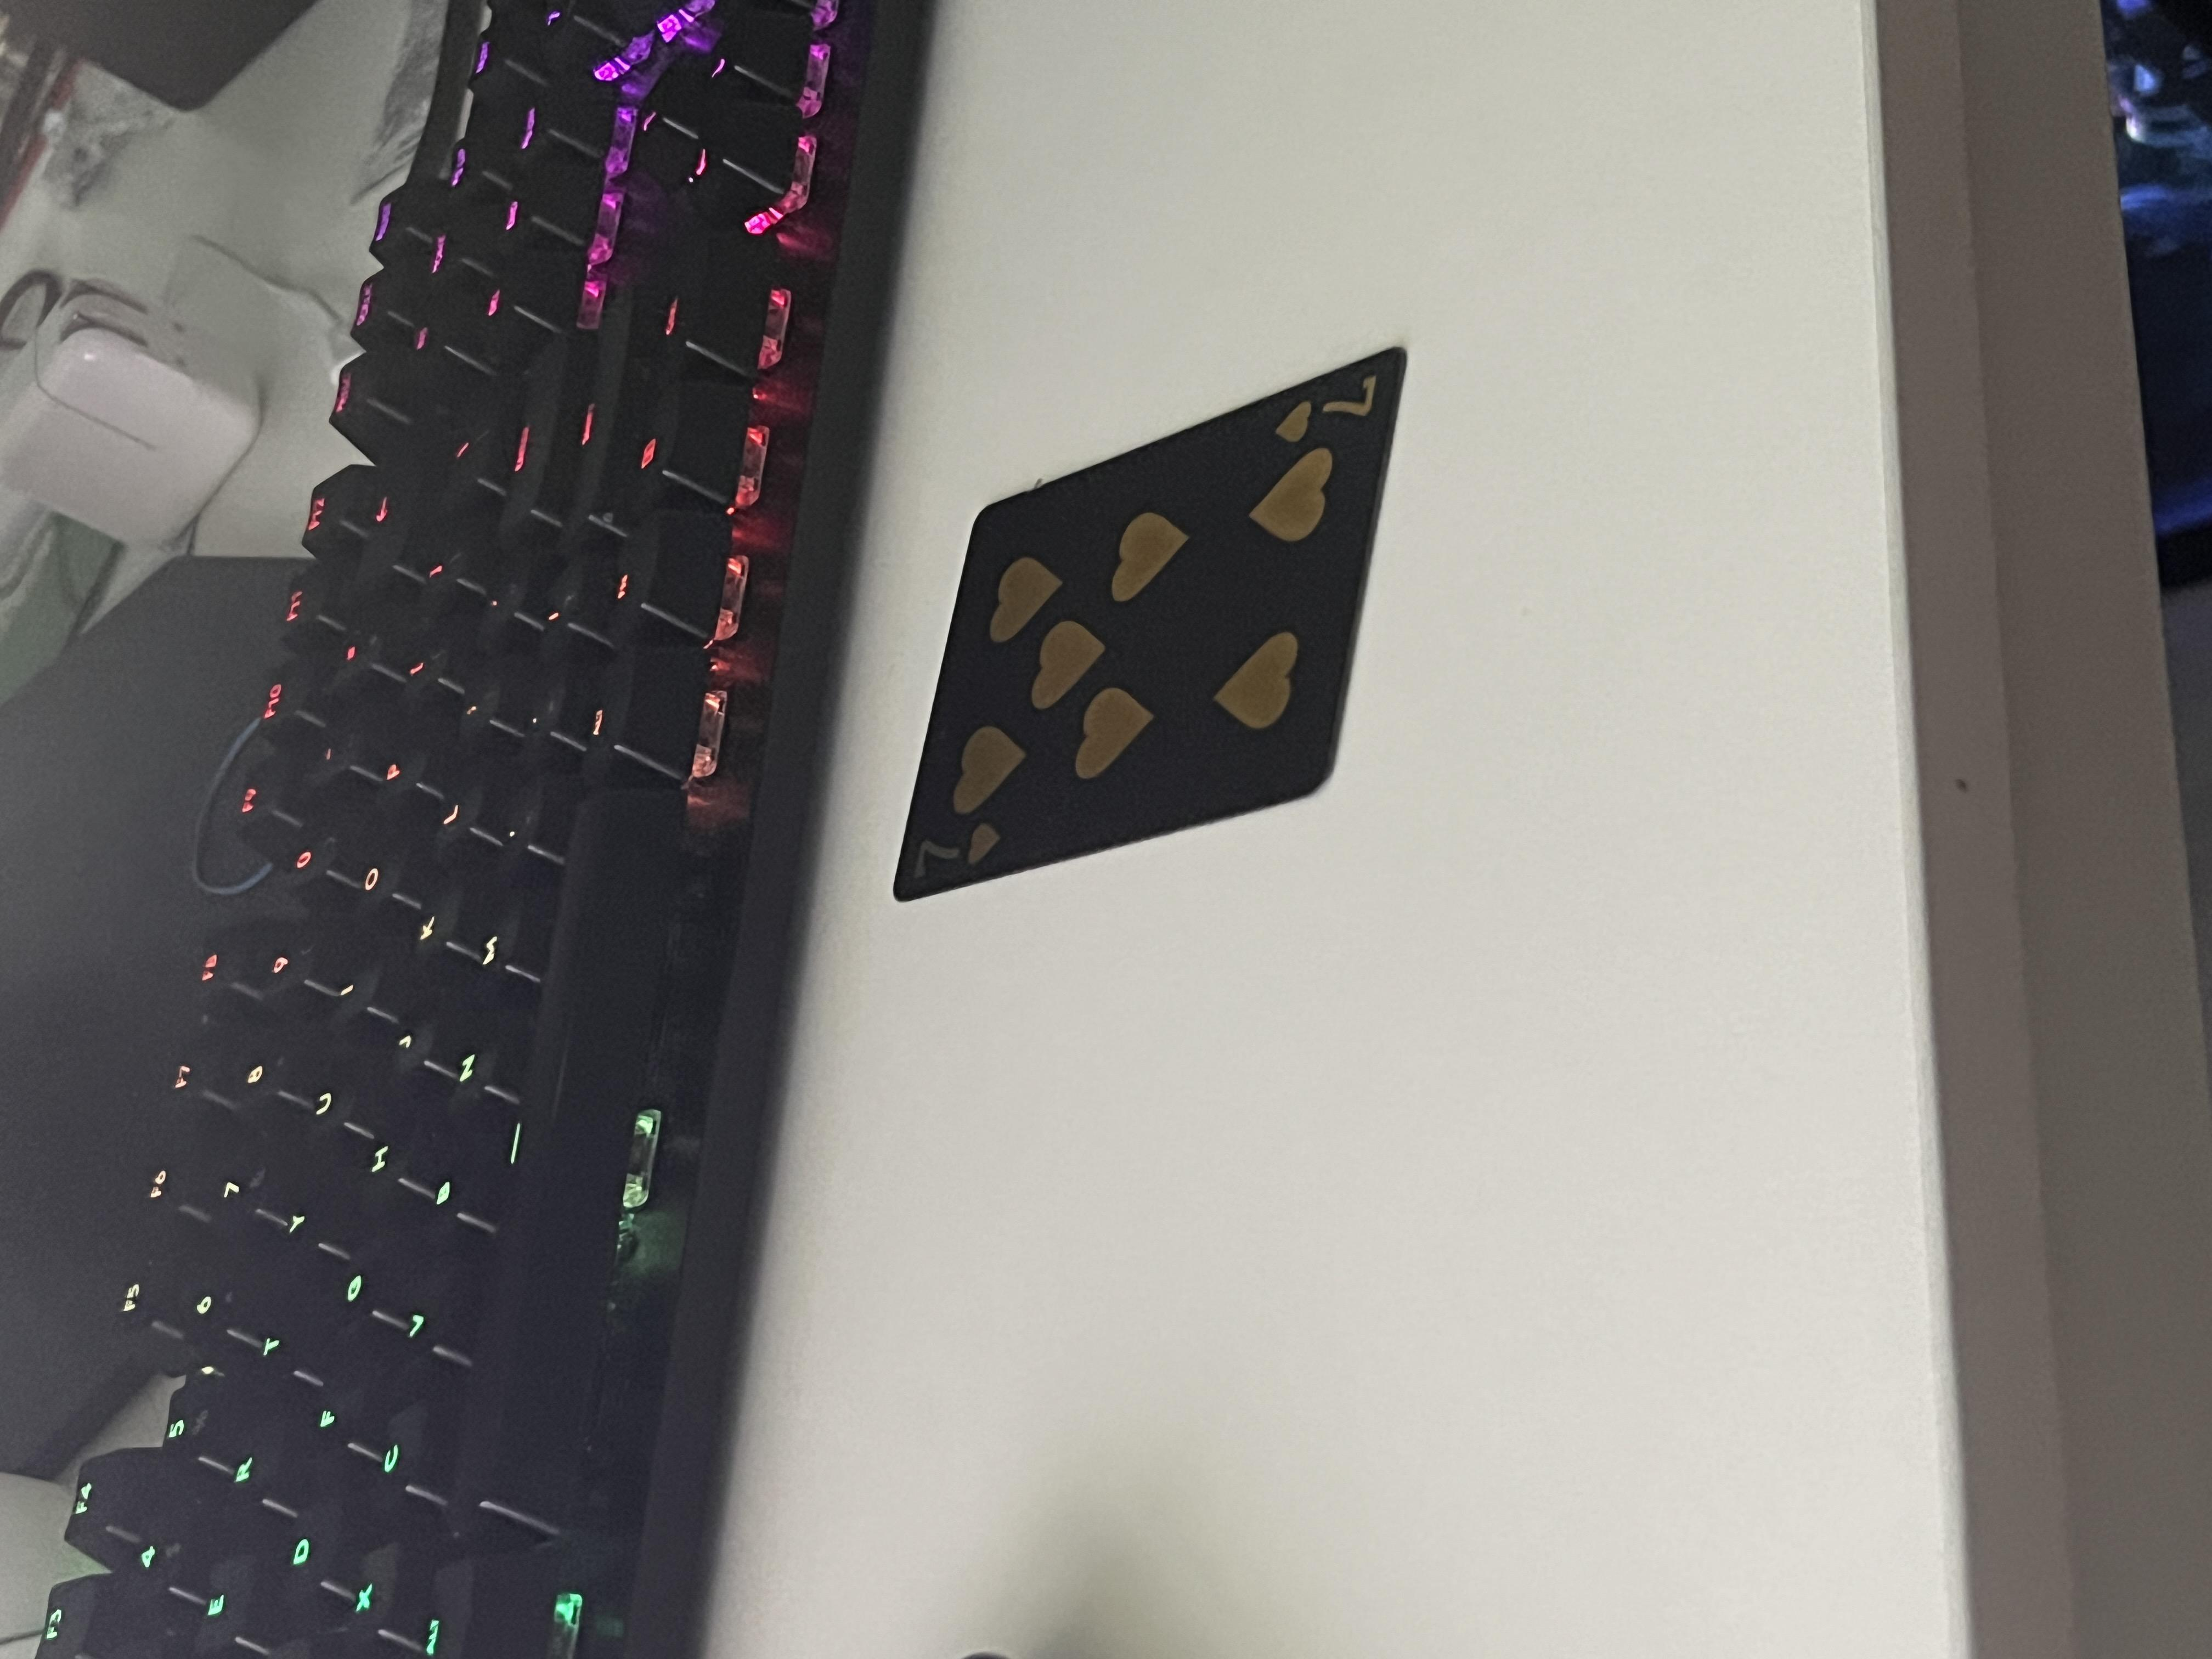7H: (995, 669, 1137, 767), (1602, 943, 1716, 1051)
